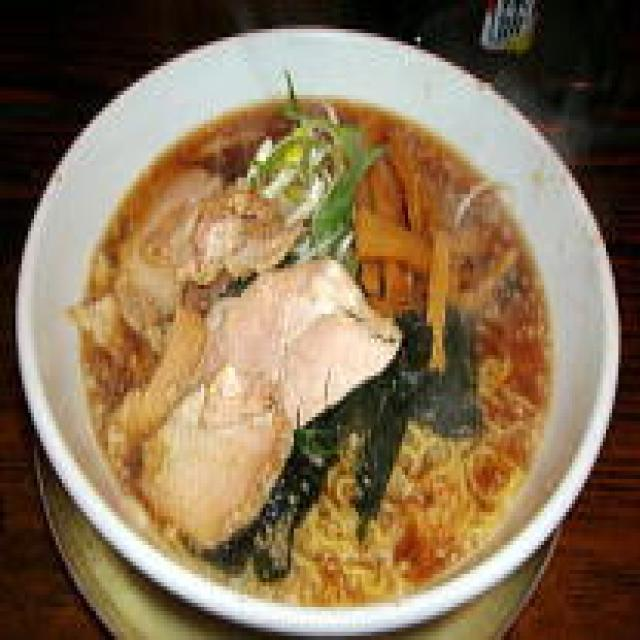面条主食: (12, 16, 616, 624)
